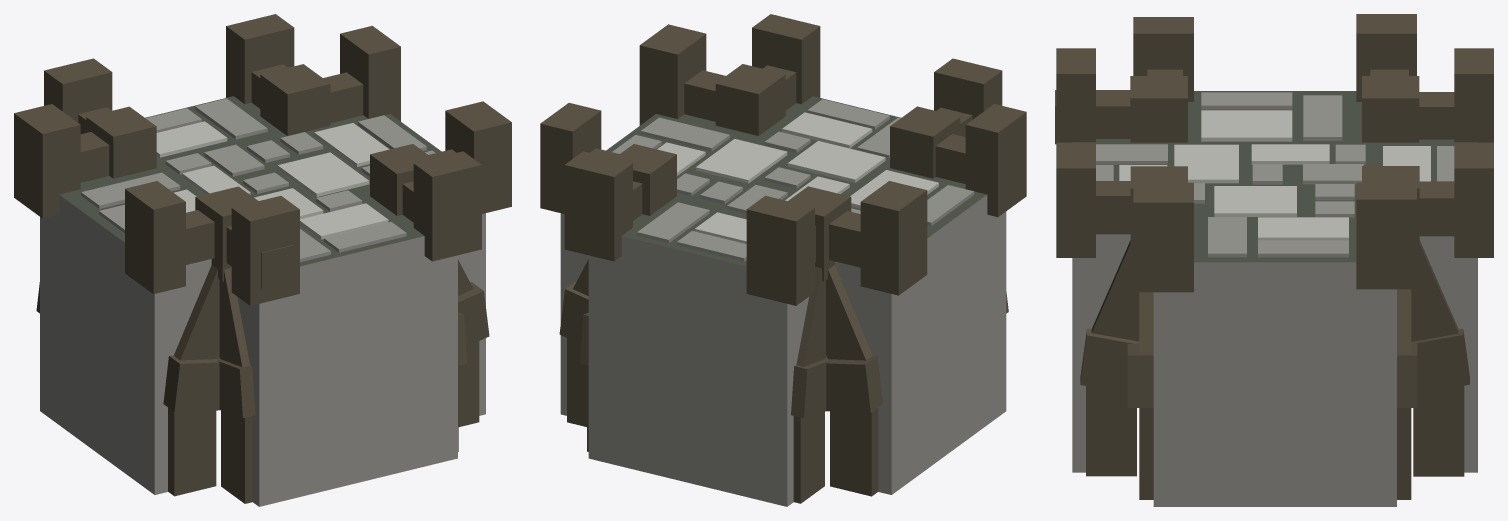
The model's file is stonebridge_fourway.fbx.
The picture shows the model from 3 angles, left to right: view 1: azimuth 30°, elevation 25°; view 2: azimuth 150°, elevation 25°; view 3: azimuth 270°, elevation 25°; orthographic projection. The views are drawn at different scales.
Visible parts, largest first — view 1: polySurface172; view 2: polySurface172; view 3: polySurface172.
Part boxes in pixels (left/top/right/bottom): polySurface172: left=14, top=14, right=511, bottom=506; polySurface172: left=540, top=14, right=1026, bottom=506; polySurface172: left=1055, top=14, right=1493, bottom=506.
Size of the model in its own units: 110 by 85.16 by 108.
Materials: 1 (1 with a texture image).
